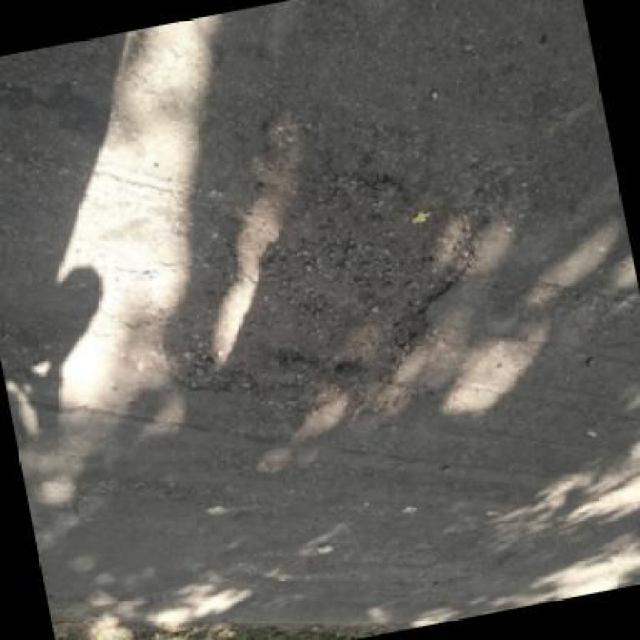pothole: (130, 128, 522, 428)
